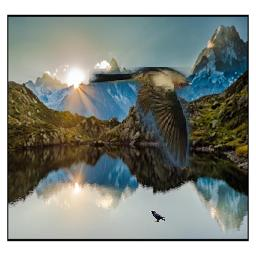Crow: (151, 210, 166, 222)
Cuckoo: (90, 67, 193, 167)
